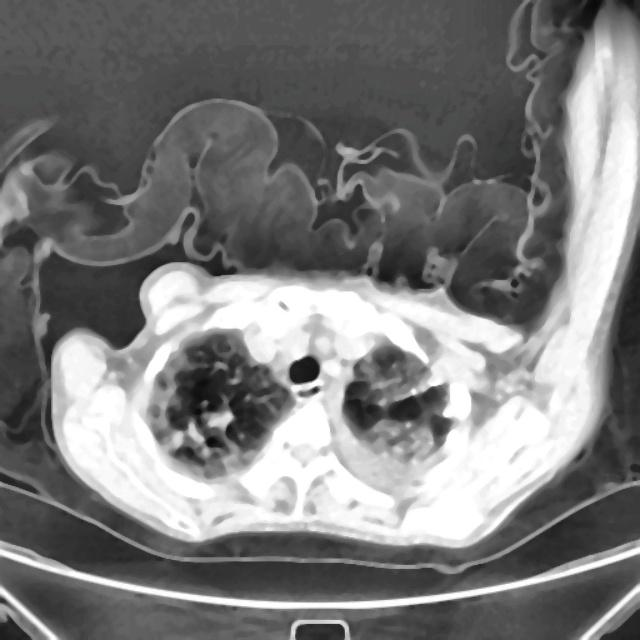covid: (3, 1, 637, 557)
